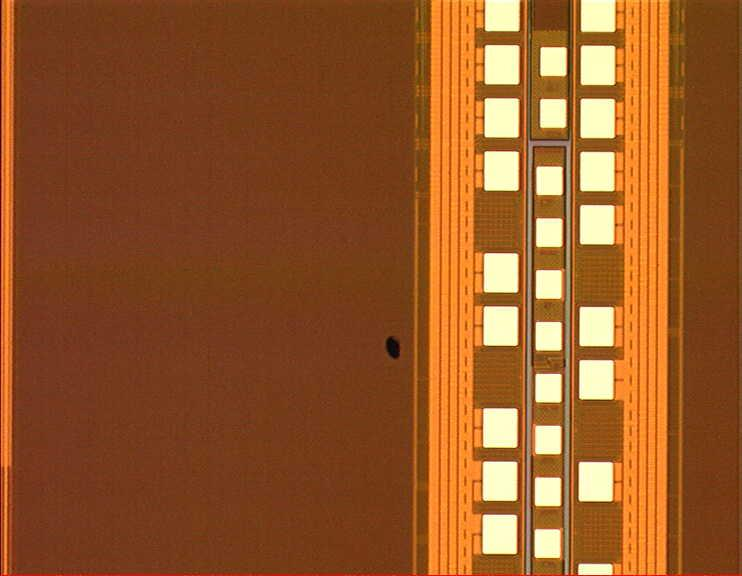PIQ PARTICLE: (382, 332, 407, 363)
